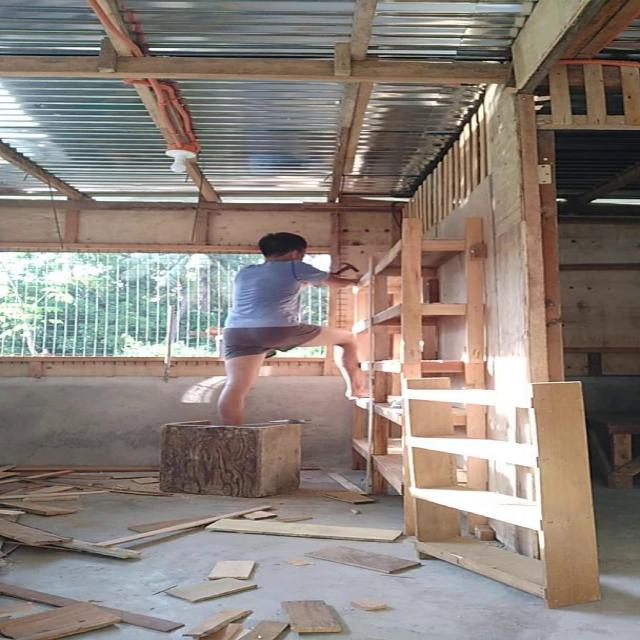hammer: (331, 260, 361, 279)
